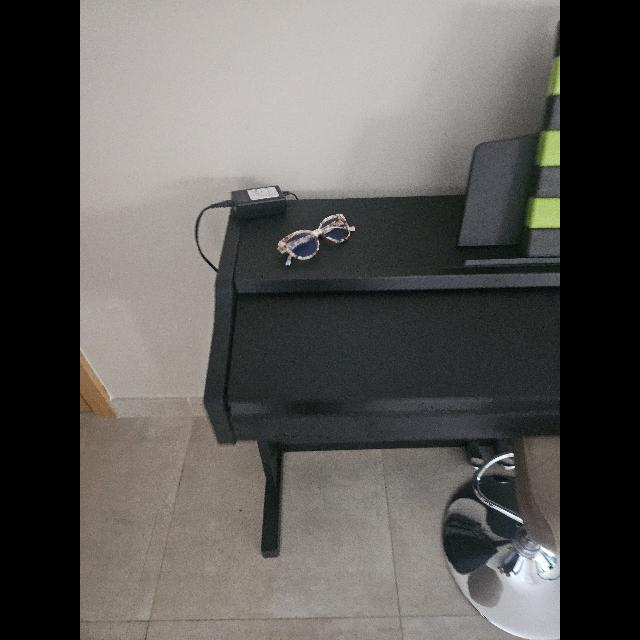glasses: (277, 214, 355, 266)
